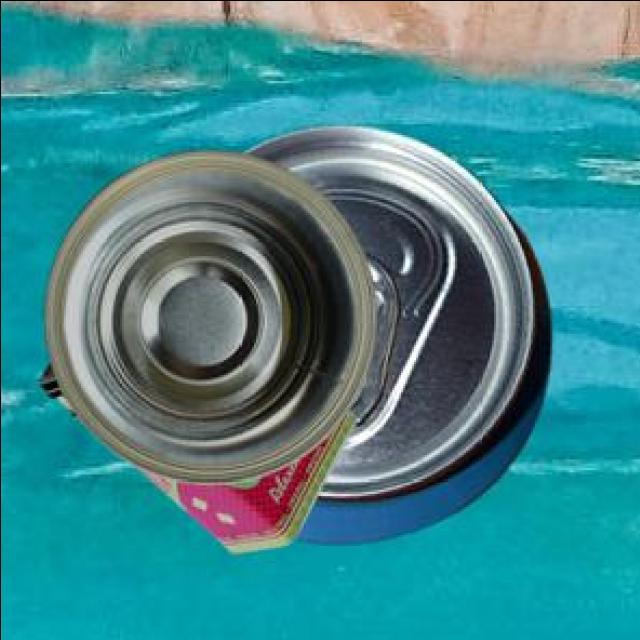logam: (239, 122, 546, 539), (40, 146, 373, 479), (91, 408, 351, 548)
